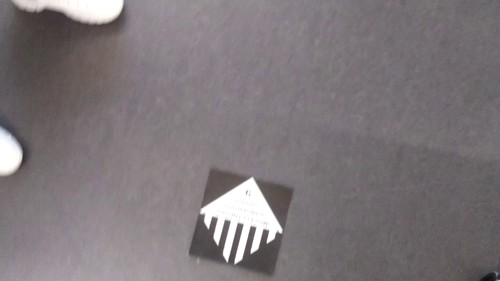misgoods: (199, 178, 285, 263)
